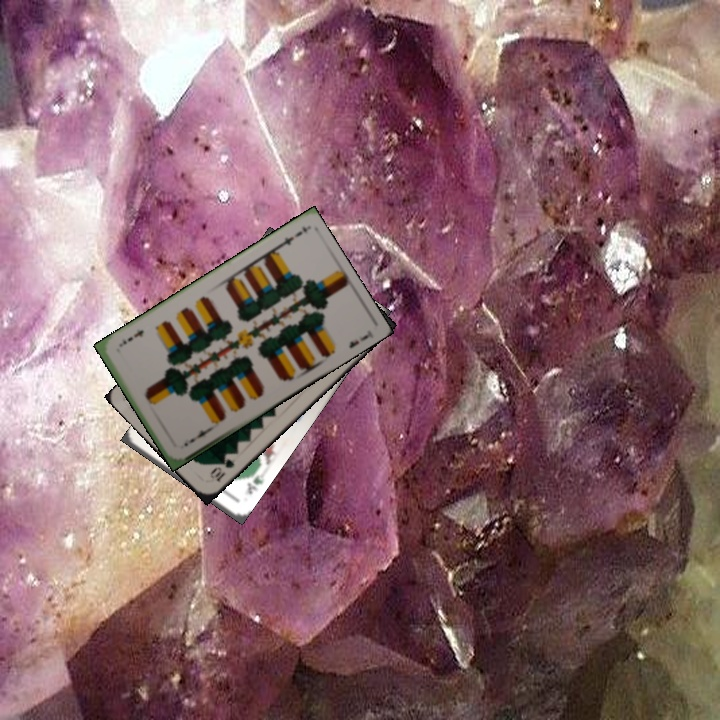E7: (272, 227, 305, 252), (180, 425, 213, 449)
G10: (206, 453, 237, 485)
GK: (243, 470, 267, 497)
